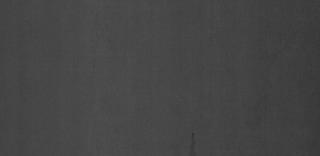water spot: (184, 124, 212, 156)
